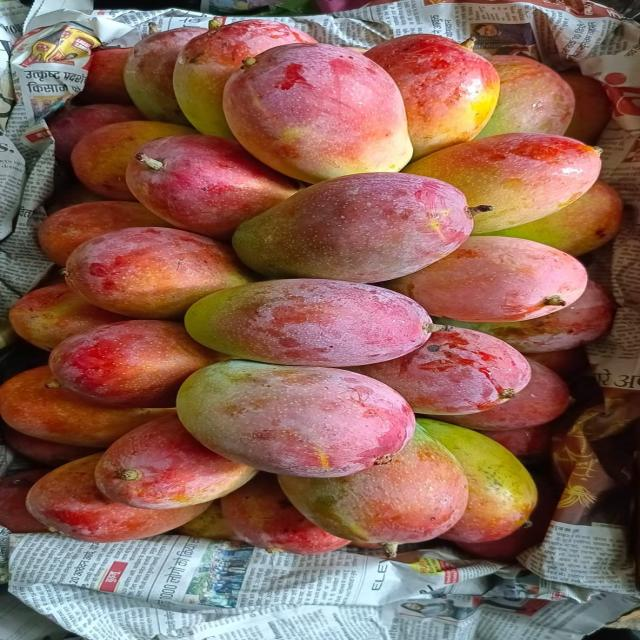mango: (177, 361, 414, 477), (234, 173, 473, 282), (224, 44, 412, 182), (279, 425, 468, 557), (186, 279, 432, 366), (404, 134, 600, 233), (127, 136, 297, 239), (386, 237, 587, 322), (365, 34, 500, 159), (65, 228, 250, 319), (174, 20, 315, 137), (355, 328, 530, 421), (27, 454, 207, 542), (50, 320, 224, 407), (95, 414, 256, 508), (418, 419, 537, 542), (0, 366, 172, 447), (439, 281, 613, 354), (221, 474, 349, 554), (489, 181, 623, 255), (71, 121, 194, 201), (436, 362, 569, 431), (457, 475, 560, 561), (38, 201, 169, 266), (124, 27, 206, 124), (9, 284, 127, 350), (478, 56, 574, 137), (47, 104, 143, 163), (3, 428, 102, 467), (560, 71, 612, 144), (0, 470, 49, 533), (77, 48, 131, 104), (483, 424, 553, 464), (176, 500, 237, 540), (45, 177, 103, 216), (526, 347, 588, 379)
